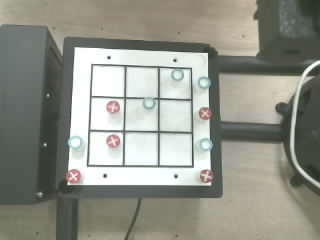blue circle: (68, 136, 82, 149), (198, 77, 212, 89), (143, 97, 155, 109), (200, 138, 212, 150), (171, 69, 183, 80)
board: (65, 47, 213, 187)
cells: (89, 132, 122, 165), (125, 133, 157, 165), (125, 99, 157, 130), (91, 98, 123, 129), (160, 134, 191, 165), (160, 100, 191, 131), (92, 66, 124, 96), (160, 68, 190, 98), (127, 67, 157, 96)
grid: (87, 64, 193, 167)
red cross: (65, 169, 80, 183), (106, 135, 119, 147), (199, 107, 212, 119), (200, 169, 212, 182), (106, 101, 119, 112)
